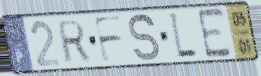2: (29, 19, 63, 68)
E: (195, 6, 234, 61)
F: (92, 14, 125, 65)
L: (167, 11, 200, 62)
R: (57, 18, 92, 66)
S: (127, 12, 162, 63)
